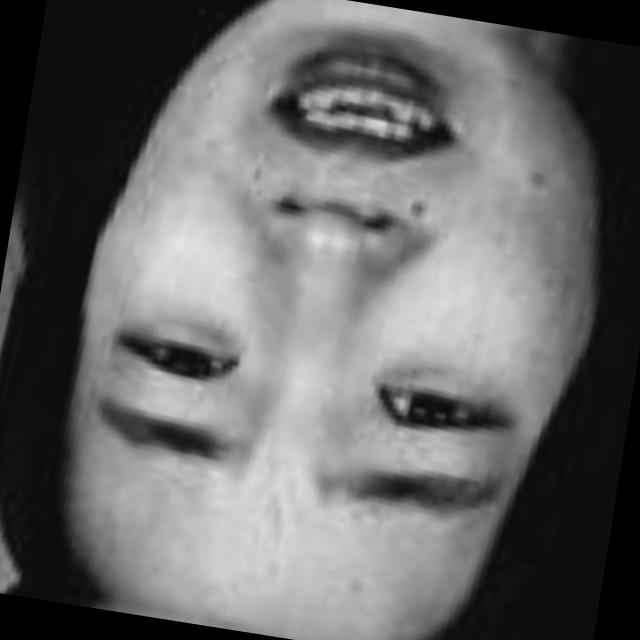fear: (59, 0, 605, 640)
